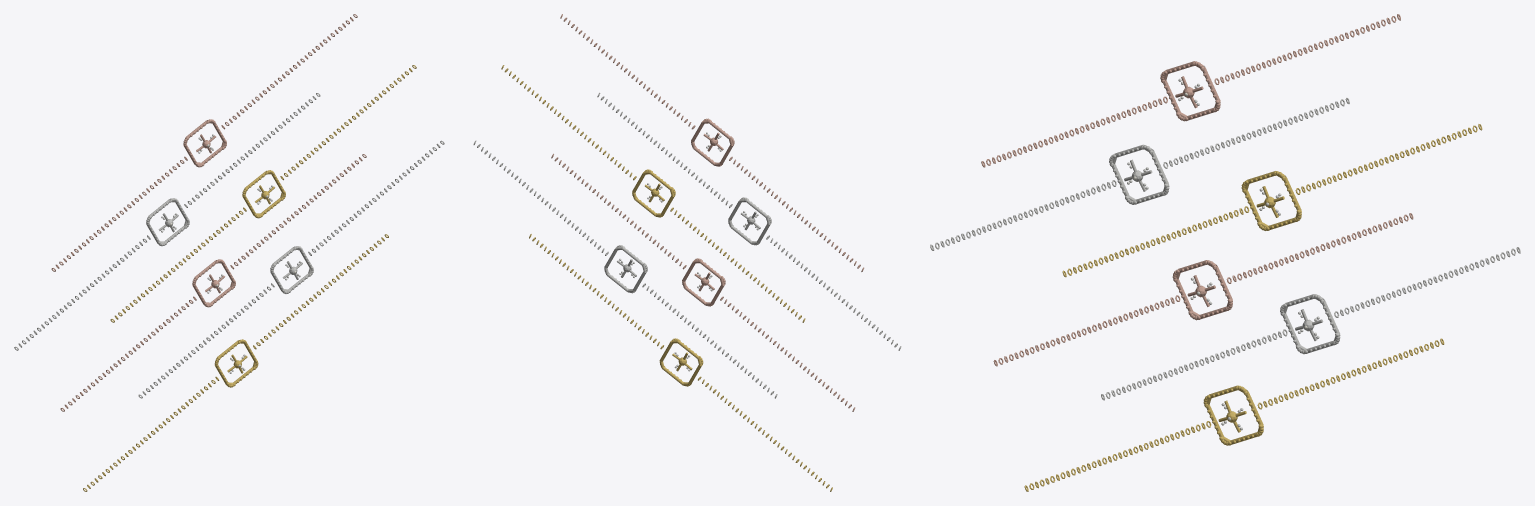
File: floral_motif_necklaces_3d.glb
3 views of the same model, side by side, from view 1: azimuth 30°, elevation 25°; view 2: azimuth 150°, elevation 25°; view 3: azimuth 330°, elevation 25° (orthographic). The views are drawn at different scales.
Size of the model in its own units: 10.36 by 9.52 by 0.232.
